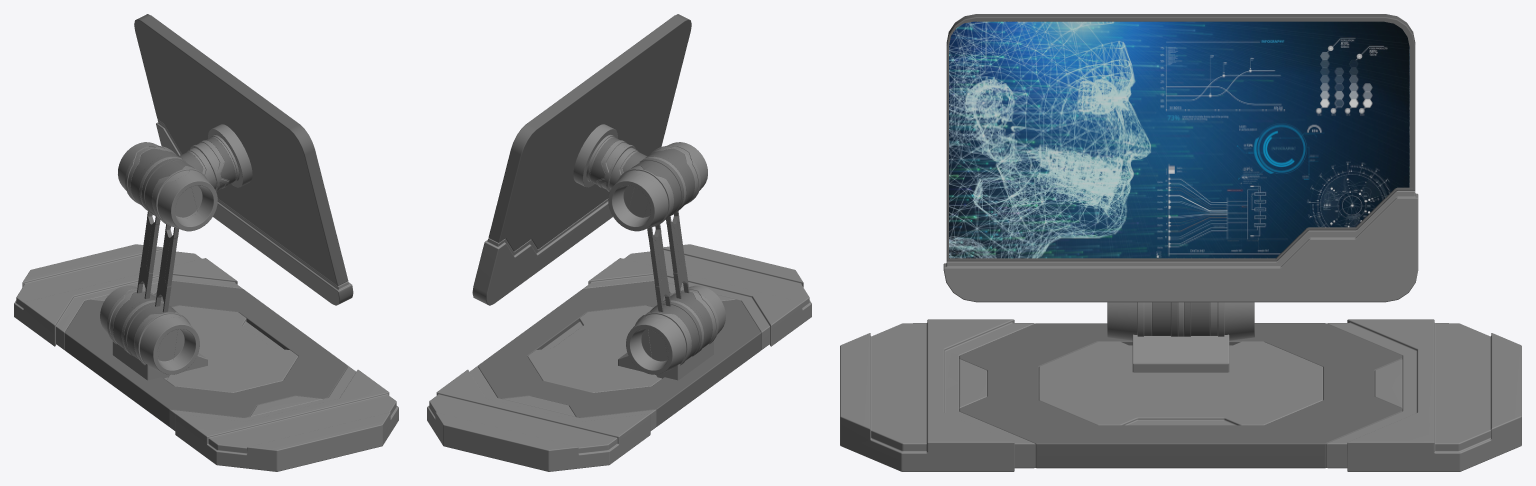
The model's file is hardusrface_screen__pad__pc.glb.
3 views of the same model, side by side, from view 1: azimuth 30°, elevation 25°; view 2: azimuth 150°, elevation 25°; view 3: azimuth 270°, elevation 25° (orthographic). The views are drawn at different scales.
Parts seen in each view (by area): view 1: Cube.Slice.Slice.001.frozen, Cube.003.Slice.frozen, Cylinder.004.Slice.frozen, Cylinder.004.Slice.frozen.001, Cylinder.Slice.frozen, Cube.006.frozen.001, Cube.005; view 2: Cube.Slice.Slice.001.frozen, Cube.003.Slice.frozen, Cylinder.004.Slice.frozen, Cylinder.004.Slice.frozen.001, Cylinder.Slice.frozen, Cube.006.frozen.001, Cube.005; view 3: AI-illustration, Cube.Slice.Slice.001.frozen, Cube.003.Slice.frozen, Cylinder.004.Slice.frozen.001, Cube.005.
Part boxes in pixels (bbox=[...]): Cube.Slice.Slice.001.frozen: bbox=[14, 244, 398, 471]; Cube.003.Slice.frozen: bbox=[134, 14, 353, 305]; Cylinder.004.Slice.frozen: bbox=[118, 142, 217, 231]; Cylinder.004.Slice.frozen.001: bbox=[100, 285, 199, 374]; Cylinder.Slice.frozen: bbox=[179, 124, 252, 191]; Cube.006.frozen.001: bbox=[137, 211, 179, 312]; Cube.005: bbox=[112, 341, 207, 380]; Cube.Slice.Slice.001.frozen: bbox=[427, 244, 811, 471]; Cube.003.Slice.frozen: bbox=[472, 14, 691, 305]; Cylinder.004.Slice.frozen: bbox=[608, 142, 707, 231]; Cylinder.004.Slice.frozen.001: bbox=[626, 285, 725, 374]; Cylinder.Slice.frozen: bbox=[573, 124, 646, 191]; Cube.006.frozen.001: bbox=[647, 211, 689, 312]; Cube.005: bbox=[618, 341, 713, 380]; AI-illustration: bbox=[949, 21, 1409, 258]; Cube.Slice.Slice.001.frozen: bbox=[840, 319, 1521, 471]; Cube.003.Slice.frozen: bbox=[943, 14, 1418, 302]; Cylinder.004.Slice.frozen.001: bbox=[1107, 302, 1254, 340]; Cube.005: bbox=[1132, 334, 1229, 372].
Size of the model in its own units: 2.58 by 3.98 by 6.04.
3 materials, 1 textured.
